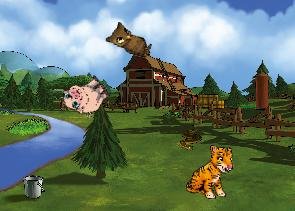owl: (104, 19, 156, 58)
pig: (58, 68, 114, 123)
tiger: (185, 143, 235, 201)
